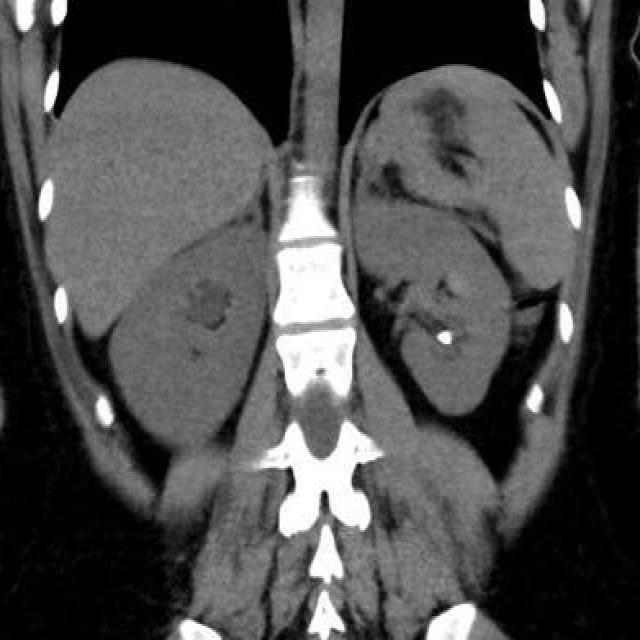Tas_Var: (437, 328, 455, 348)
